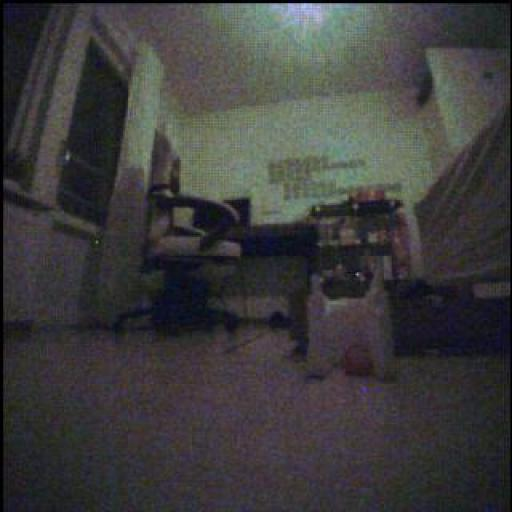basket: (344, 346, 374, 379)
